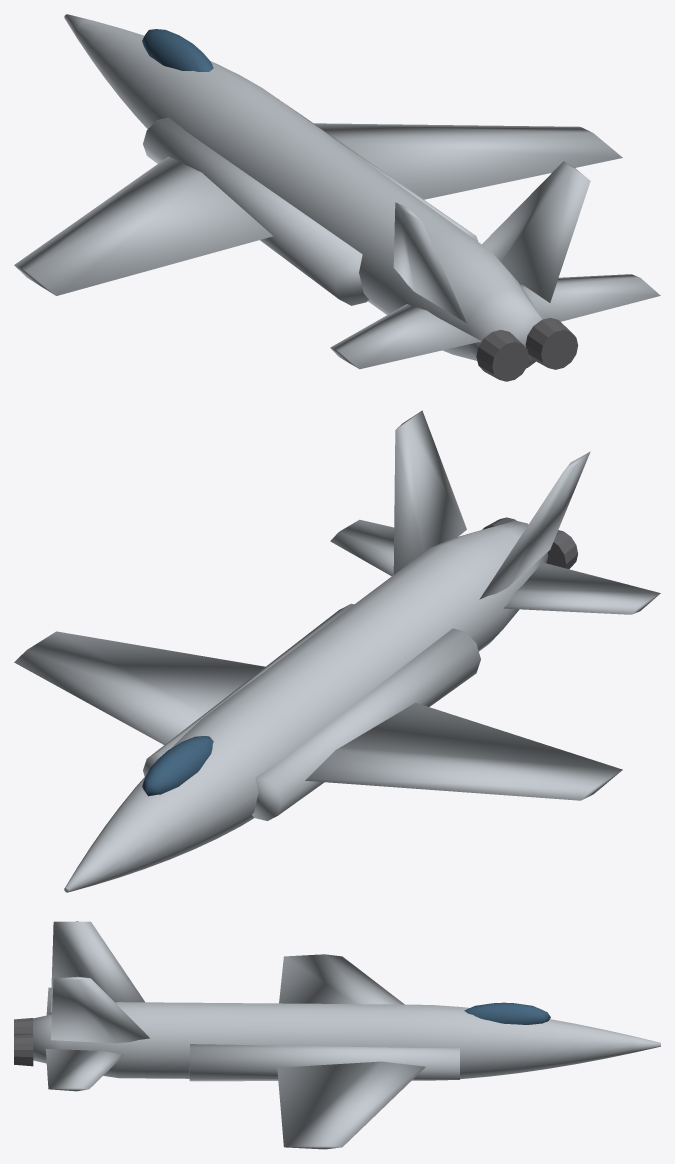
3 views of the same model, one above another, from view 1: azimuth 30°, elevation 25°; view 2: azimuth 150°, elevation 25°; view 3: azimuth 270°, elevation 25° (orthographic). The views are drawn at different scales.
Visible parts, largest first — view 1: Body, Detail, Canopy; view 2: Body, Canopy, Detail; view 3: Body, Canopy, Detail.
Part boxes in pixels (x1,y1,x2,y2): Body: (14,14,660,369); Detail: (476,317,578,381); Canopy: (142,29,213,71); Body: (14,410,660,892); Canopy: (142,736,213,796); Detail: (482,517,578,568); Body: (33,921,660,1149); Canopy: (464,1002,550,1024); Detail: (14,1018,33,1066).
Bounding box in the file's own units: 1230 × 384 × 1761.
